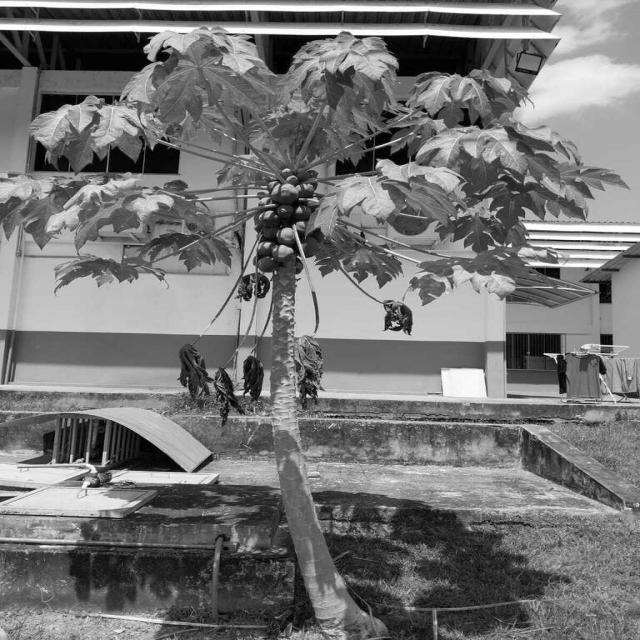Papaya-Tree: (10, 14, 589, 625)
